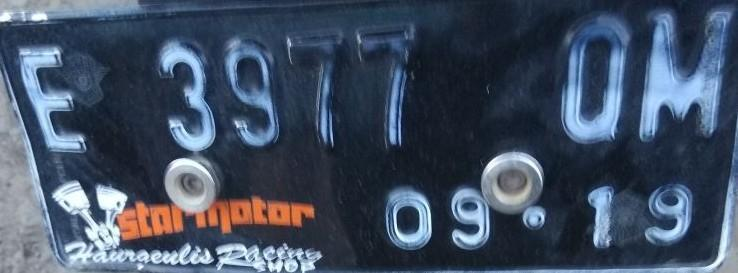3: (150, 40, 219, 151)
7: (355, 28, 419, 152), (288, 29, 348, 152)
9: (223, 32, 286, 152)
E: (16, 41, 96, 160)
M: (636, 2, 734, 144)
Plate: (0, 0, 737, 264)
Q: (555, 13, 635, 148)
